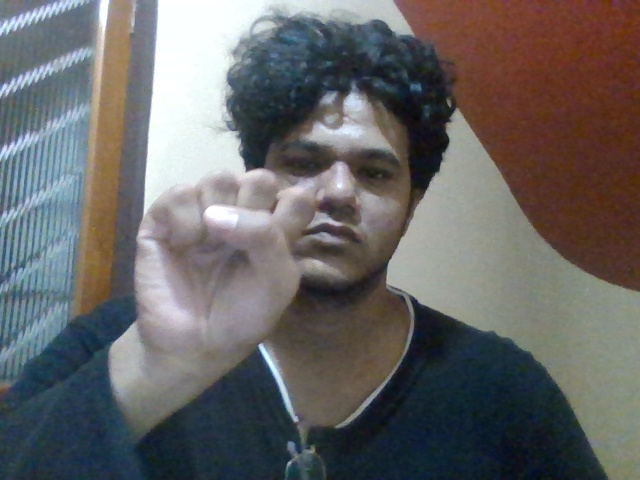no: (126, 181, 312, 342)
